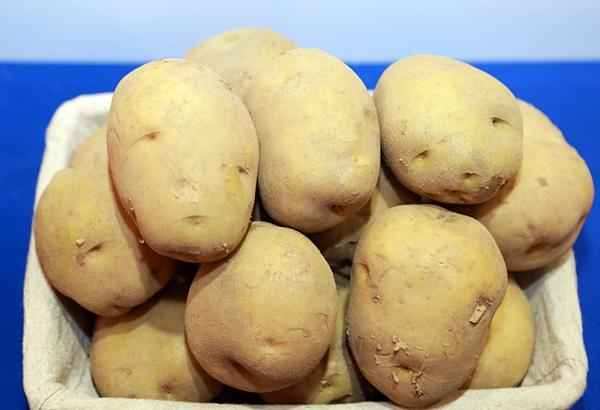potato: (333, 133, 476, 263), (101, 39, 243, 167), (176, 155, 317, 252), (239, 31, 354, 147), (358, 36, 494, 133)
